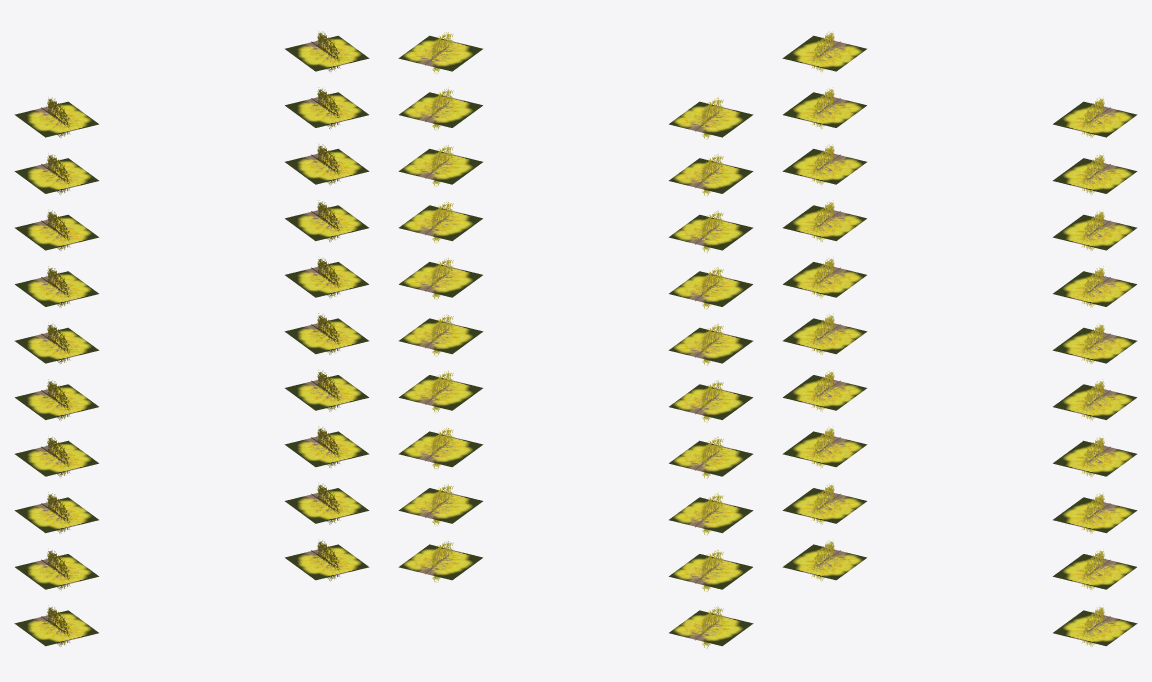
The model's file is Tree.obj.
3 renders of one model, left to right at view 1: azimuth 30°, elevation 25°; view 2: azimuth 150°, elevation 25°; view 3: azimuth 330°, elevation 25°, orthographic.
Visible parts, largest first — view 1: Tree_Plane.001; view 2: Tree_Plane.001; view 3: Tree_Plane.001.
Boxes of the visible parts, box(x1,y1,x2,y2) form: Tree_Plane.001: box(14, 31, 369, 646); Tree_Plane.001: box(398, 32, 753, 648); Tree_Plane.001: box(782, 31, 1137, 646).
Bounding box in the file's own units: 72 × 120 × 12.
2 materials, 2 textured.
